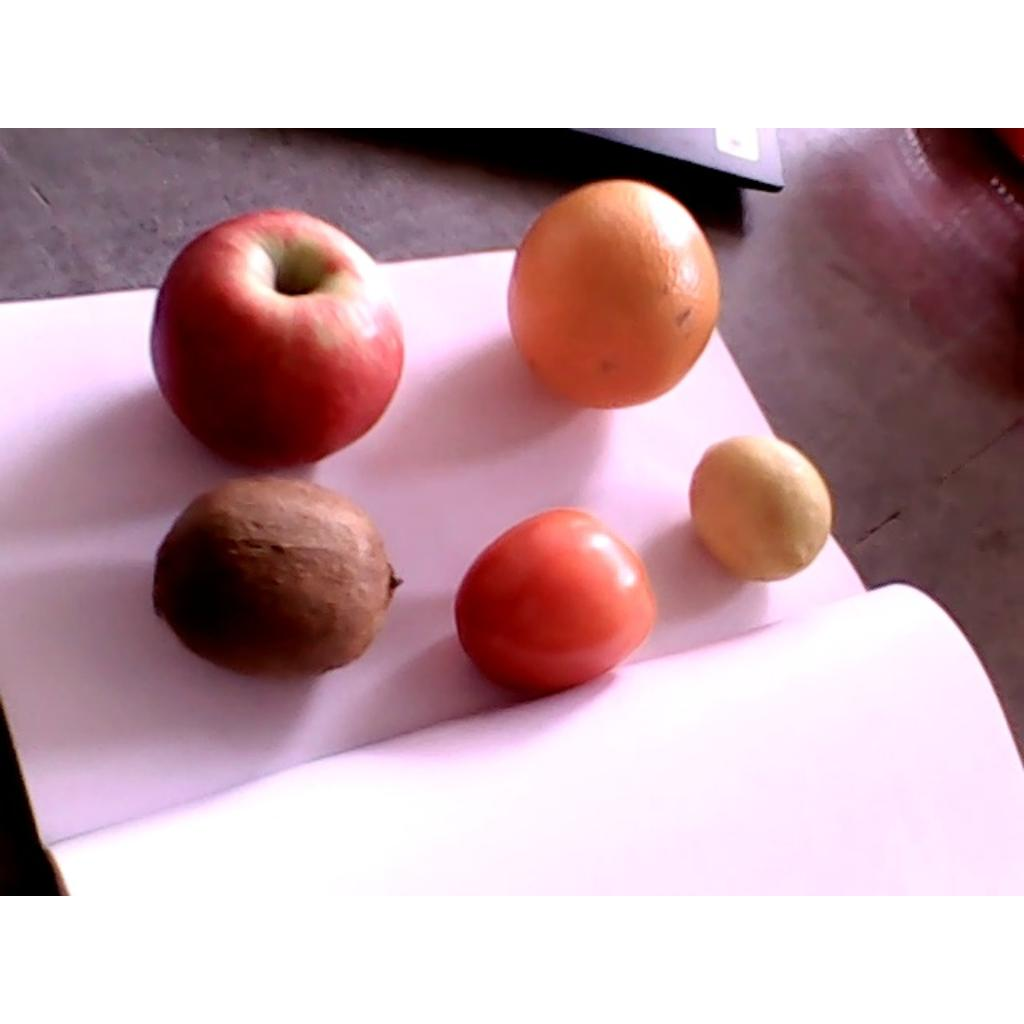apple: (151, 209, 405, 471)
kiwi: (153, 475, 402, 680)
lemon: (690, 437, 833, 581)
orange: (508, 180, 720, 410)
tomato: (454, 510, 658, 697)
